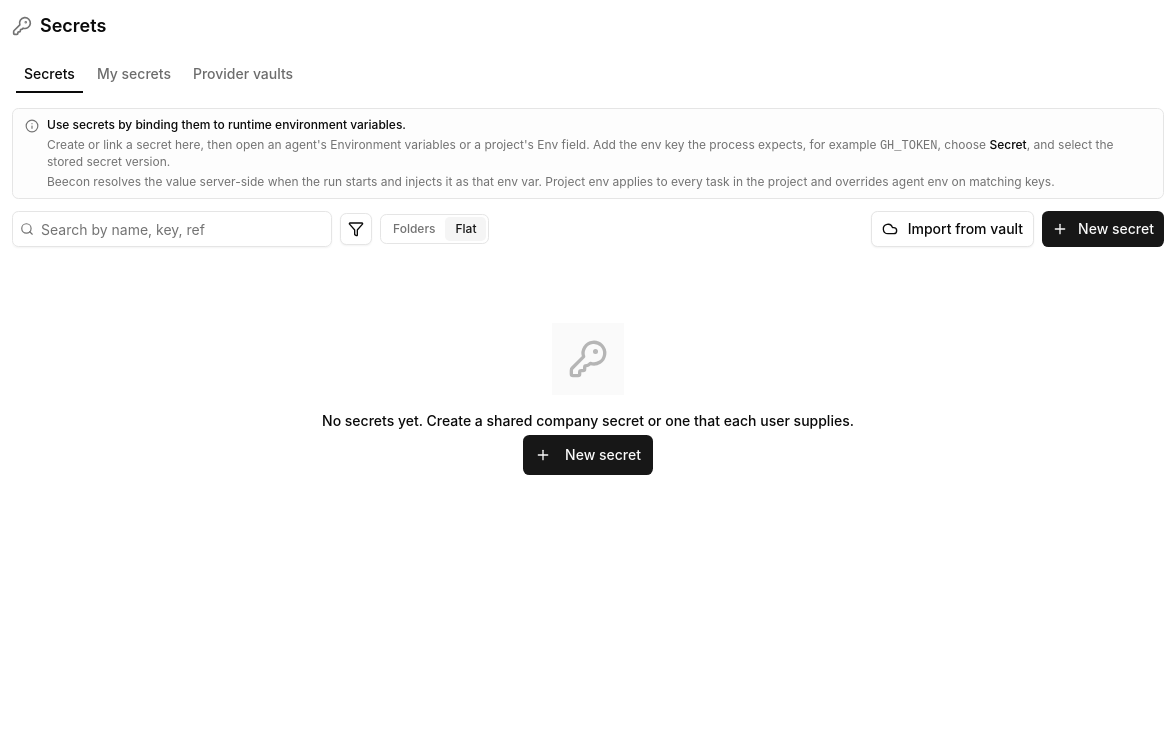
Test: Secrets page layout › refreshes existing AWS secrets from a provider vault card
Later steps or results of the test are not shown.
Press the mouse on the tab "Provider vaults" at x=243, y=74, box [184,60,302,88]
Press Enter in the tab "Provider vaults", box [184,60,302,88]
Click the tab "Provider vaults".
click(243, 74)  # box [184,60,302,88]
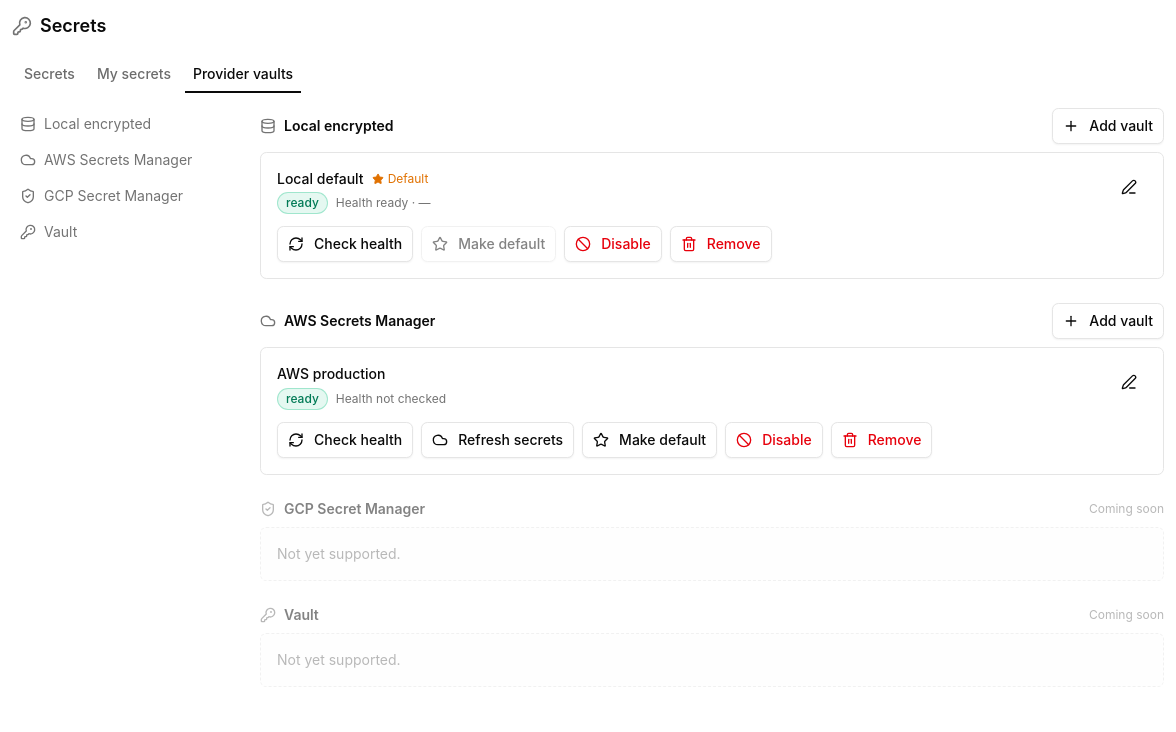
Now the button with test id "provider-vault-refresh-secrets-vault-aws" is shown, box [421,422,574,458]
